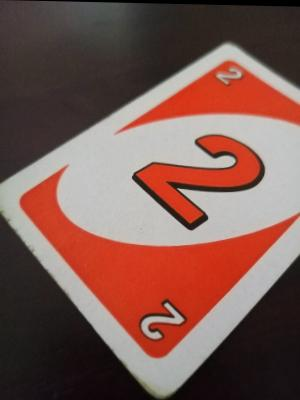num_2: (132, 292, 188, 346), (211, 60, 244, 88)
